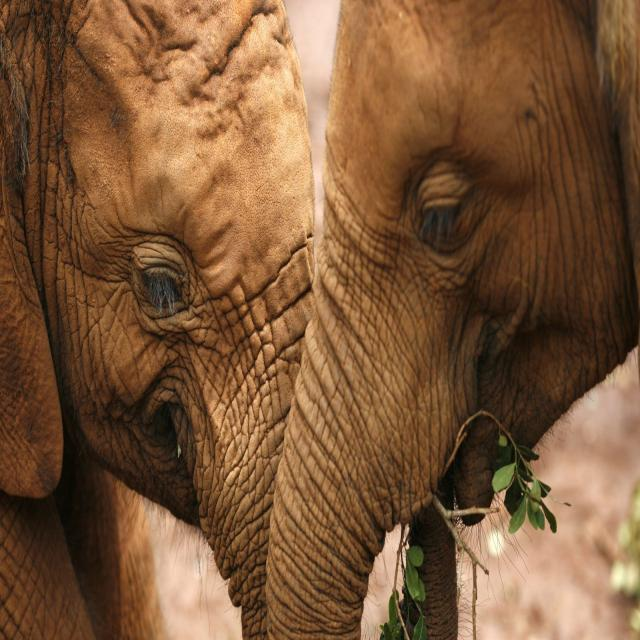Elephant: (264, 1, 639, 638), (0, 1, 316, 638)
